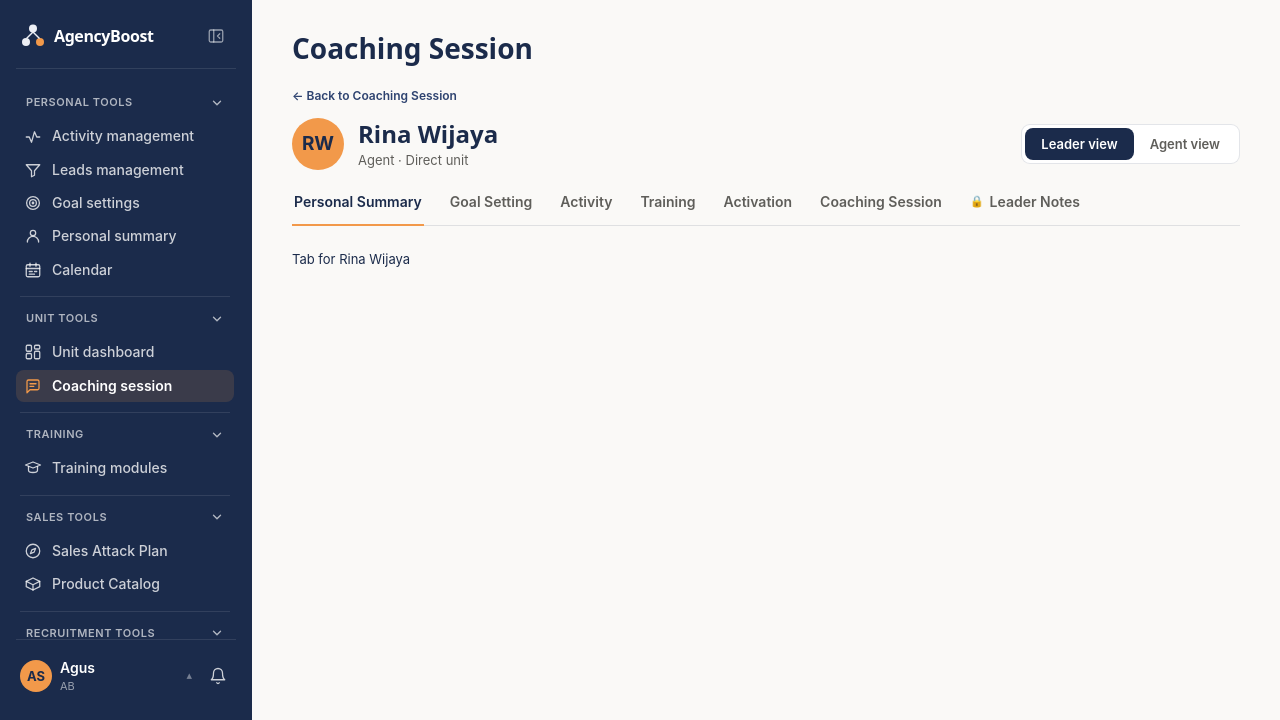
Test case: the person shell (P11-T7) › P11-T7 AC-3 Agent view takes Leader Notes out of the bar, and Leader view brings it back
Expected: the heading "Rina Wijaya" is shown, 358,119 -> 498,149
Click the button "Agent view". click: x=1185, y=144
box: 1134,128 -> 1236,160
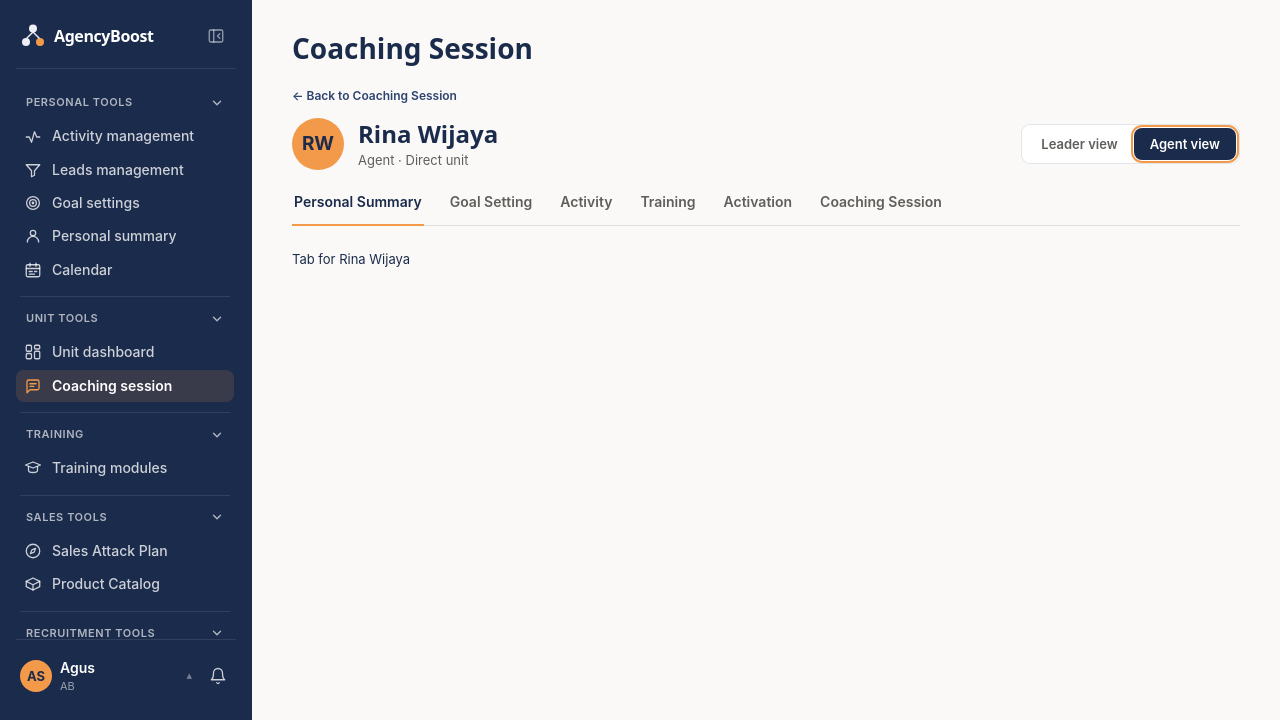
Expected: the text "Tab for Rina Wijaya" is shown, 292,251 -> 410,267
Expected: the link "Leader Notes" is gone
Click the button "Leader view". click: x=1079, y=144
box: 1025,128 -> 1134,160
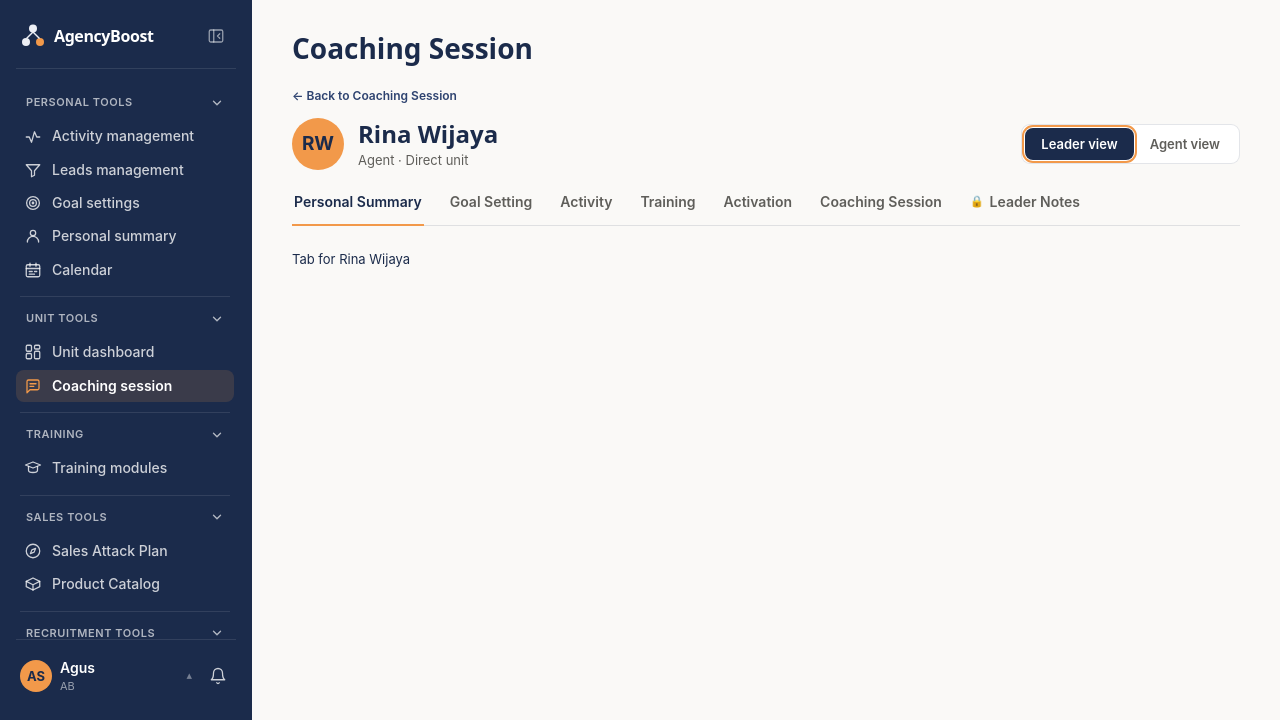
Expected: the link "🔒 Leader Notes" is shown, 970,193 -> 1080,210
